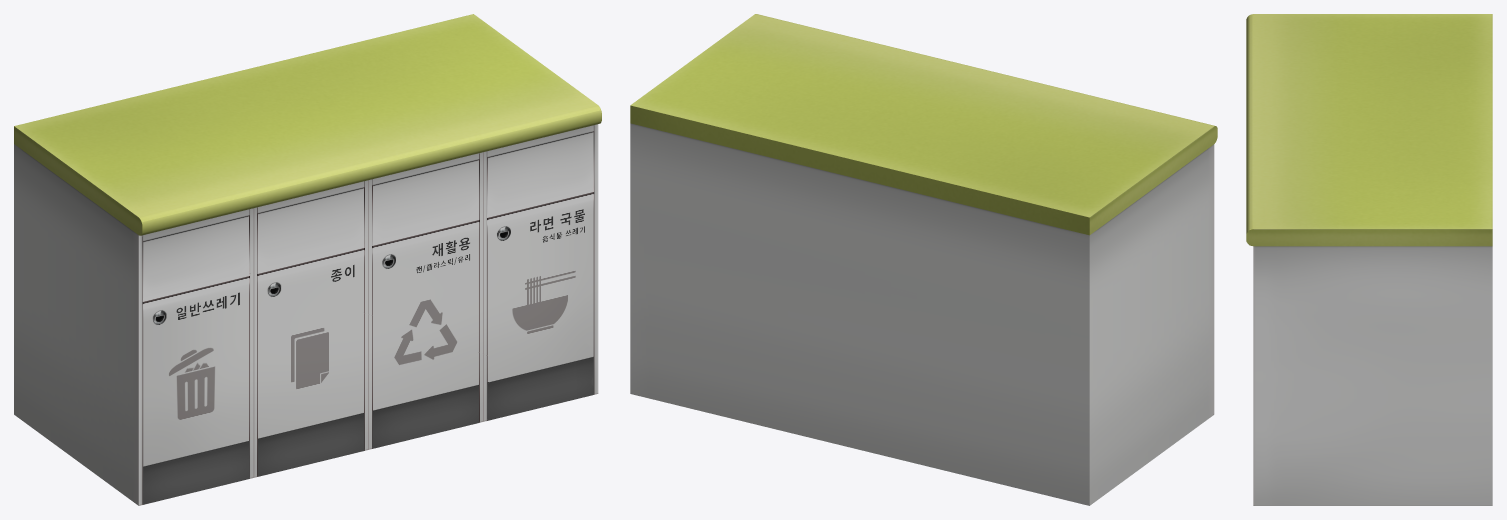
Rendered from trashcan.FBX.
3 views of the same model, side by side, from view 1: azimuth 30°, elevation 25°; view 2: azimuth 150°, elevation 25°; view 3: azimuth 270°, elevation 25° (orthographic). The views are drawn at different scales.
Parts seen in each view (by area): view 1: trashcan; view 2: trashcan; view 3: trashcan.
Part boxes in pixels (x1=…): trashcan: x1=14, y1=14, x2=601, y2=505; trashcan: x1=630, y1=14, x2=1217, y2=505; trashcan: x1=1246, y1=14, x2=1492, y2=505.
Bounding box in the file's own units: 162 × 97 × 78.13.
